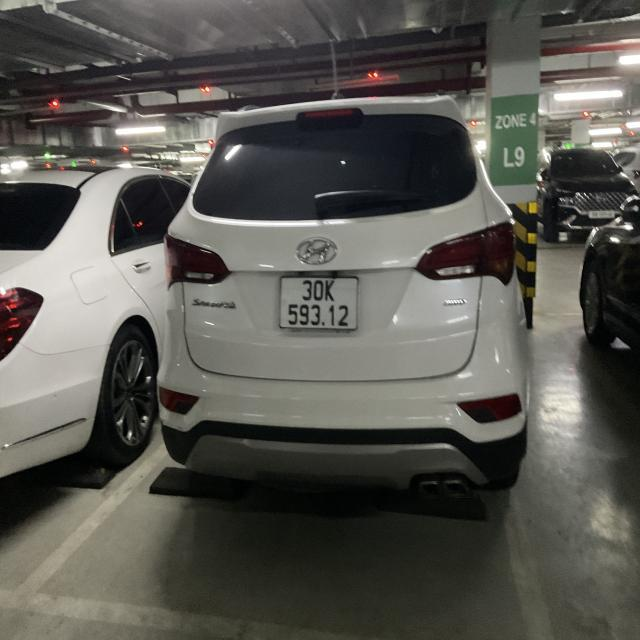license: (278, 275, 358, 330)
